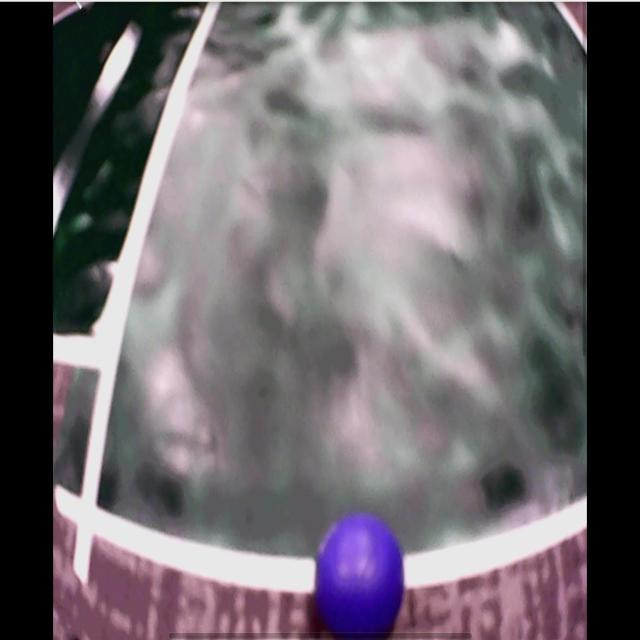ball: (317, 516, 404, 639)
